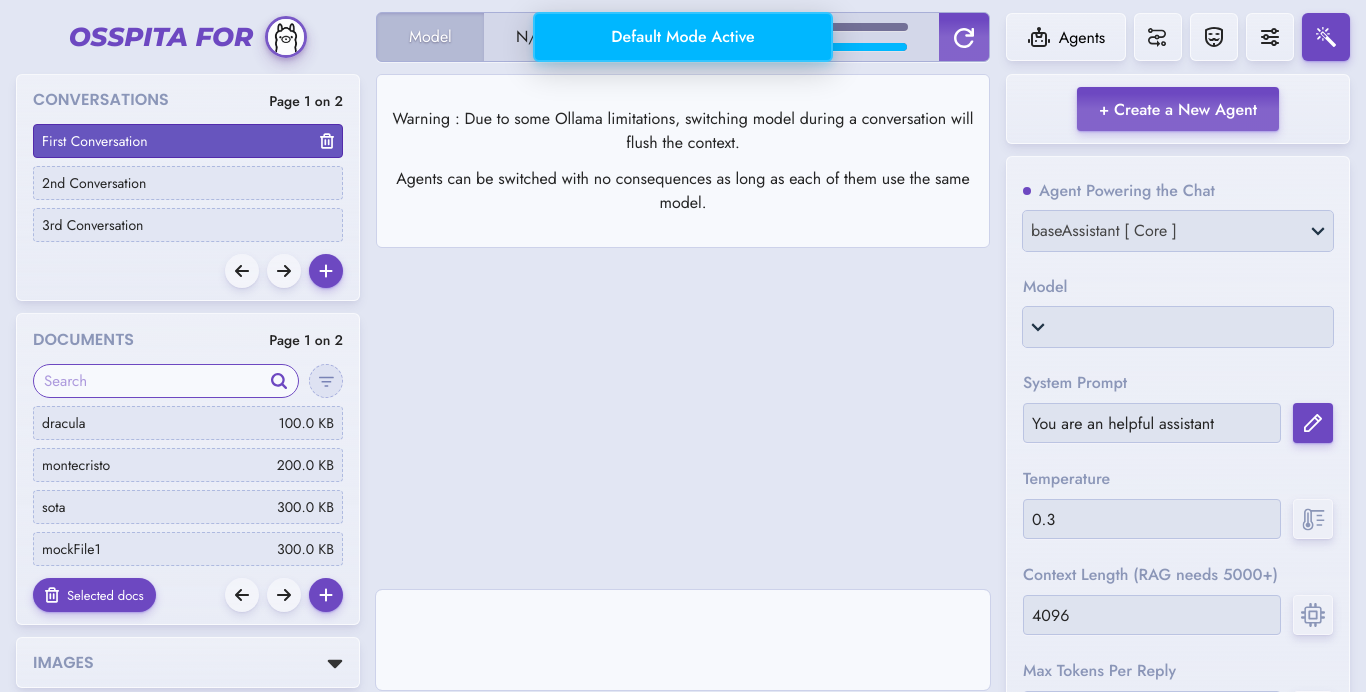
Scenario: Given I am on the Chat page › Delete conversation button display a confirmation button
Expected: the text "First Conversation" is shown, x1=42 y1=131 x2=148 y2=151
Click the button titled "delete conversation" at (326, 141), box x1=311 y1=123 x2=342 y2=159
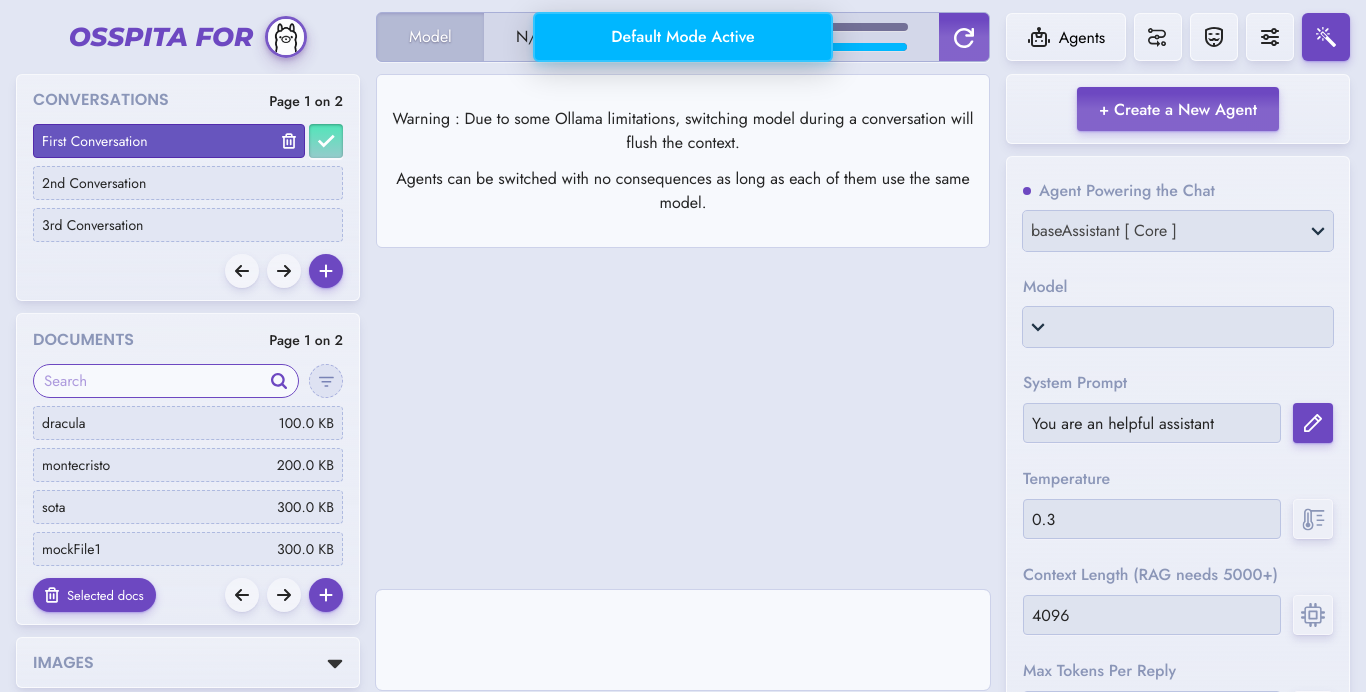
Now the button titled "confirm deletion" is shown, box x1=309 y1=124 x2=343 y2=158
